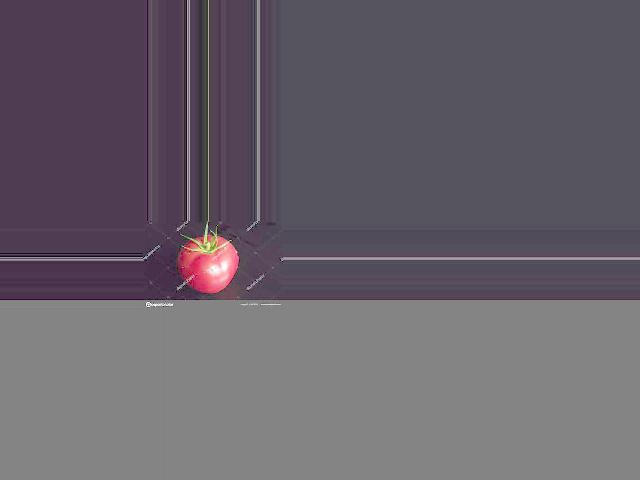tomato: (178, 235, 238, 293)
